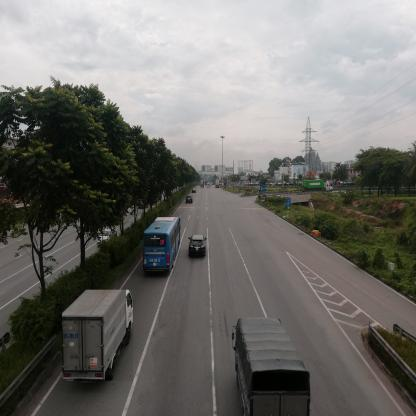bus: (145, 218, 182, 277)
car: (189, 236, 208, 257), (186, 197, 194, 206)
truck: (234, 319, 313, 416), (63, 291, 134, 382)
